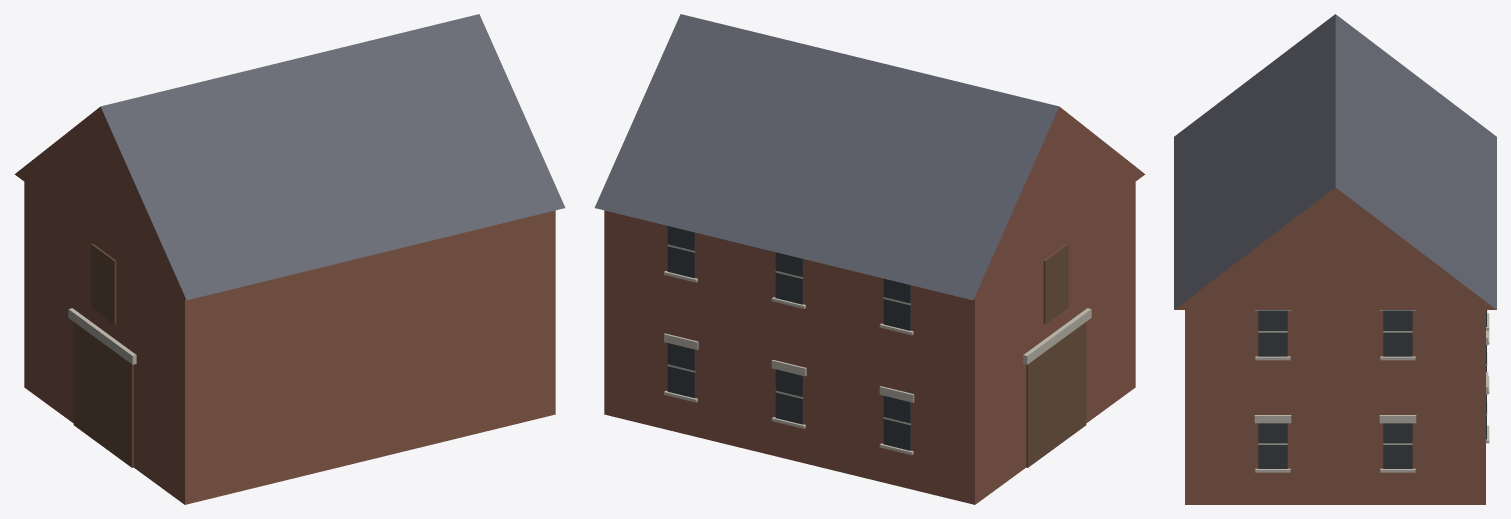
File: house_1815_indiana_coach_house__draft_1904.glb
3 views of the same model, side by side, from view 1: azimuth 30°, elevation 25°; view 2: azimuth 150°, elevation 25°; view 3: azimuth 270°, elevation 25° (orthographic). The views are drawn at different scales.
Parts seen in each view (by area): view 1: house_1815_indiana_coach_house__draft_1904; view 2: house_1815_indiana_coach_house__draft_1904; view 3: house_1815_indiana_coach_house__draft_1904.
Part boxes in pixels (x1=…): house_1815_indiana_coach_house__draft_1904: x1=14, y1=14, x2=565, y2=504; house_1815_indiana_coach_house__draft_1904: x1=594, y1=14, x2=1145, y2=504; house_1815_indiana_coach_house__draft_1904: x1=1174, y1=14, x2=1496, y2=504.
Size of the model in its own units: 11.24 by 9.66 by 8.85.
